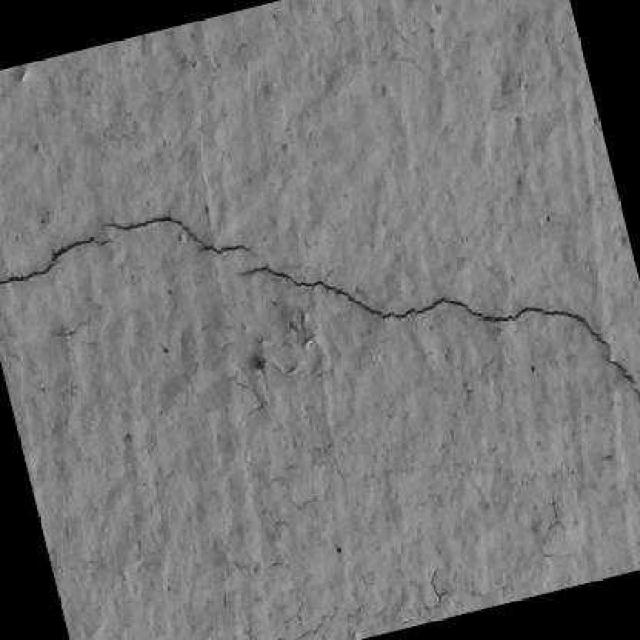D00: (240, 266, 640, 397), (0, 236, 114, 284), (101, 216, 247, 253)
